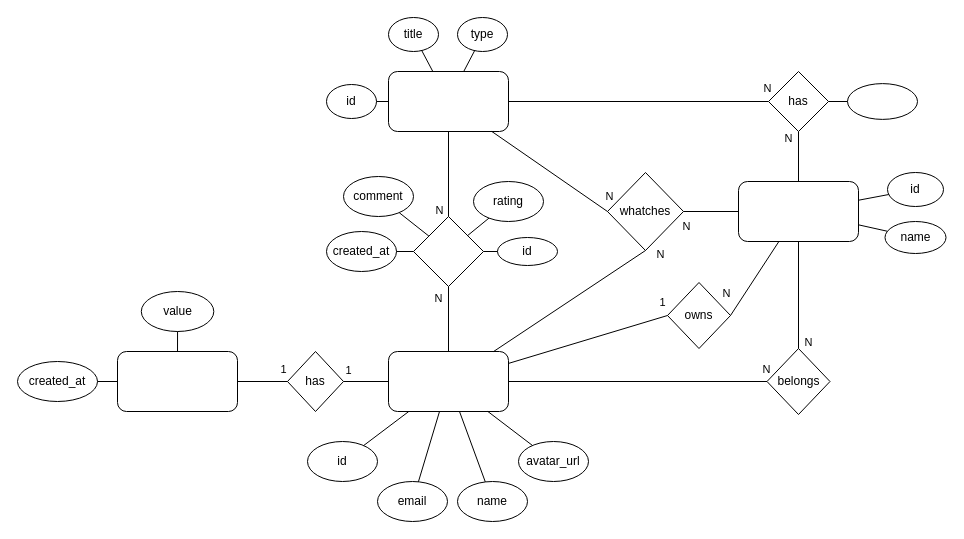
The diagram is 964 pixels wide and 539 high, and some of its shapes have lost their labels. Each missing label, with the box of its shape:
added_at: (846, 83, 918, 119)
Group: (738, 180, 858, 242)
Media: (388, 70, 508, 132)
Refresh Token: (116, 350, 238, 412)
reviews: (412, 216, 484, 286)
User: (388, 350, 508, 412)
